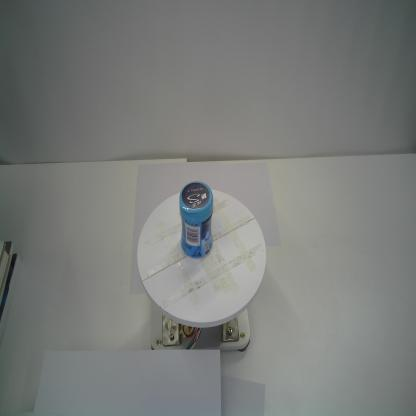Gum: (179, 181, 214, 259)
